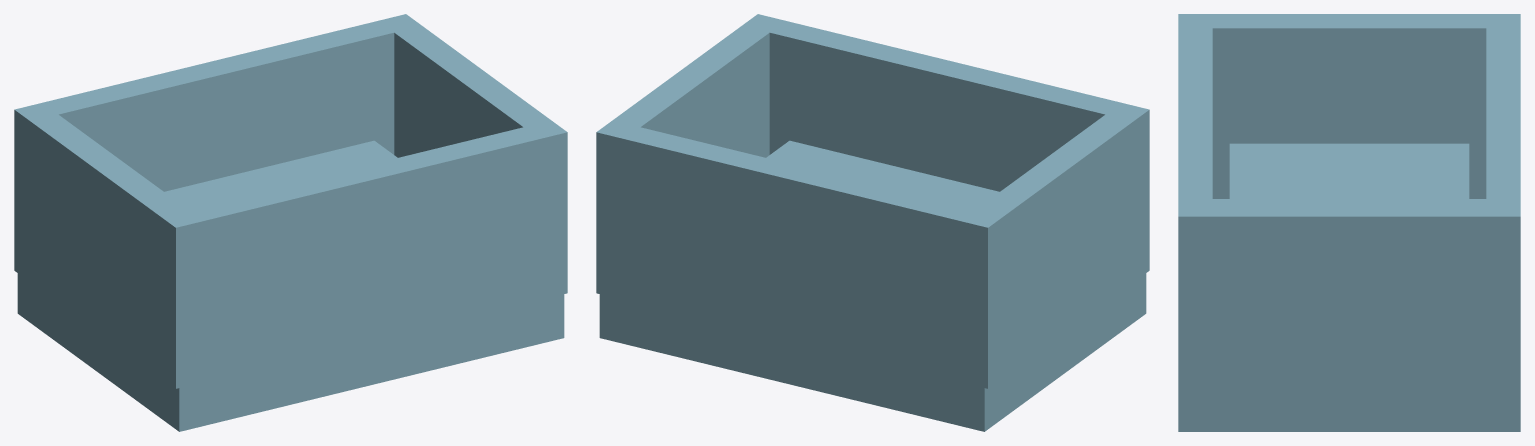
File: product_ice_packed_crate.glb
3 renders of one model, left to right at view 1: azimuth 30°, elevation 25°; view 2: azimuth 150°, elevation 25°; view 3: azimuth 270°, elevation 25°, orthographic. The views are drawn at different scales.
Parts seen in each view (by area): view 1: product.ice_packed_crate; view 2: product.ice_packed_crate; view 3: product.ice_packed_crate.
Part boxes in pixels (x1,y1,x2,y2): product.ice_packed_crate: (14, 14, 567, 431); product.ice_packed_crate: (596, 14, 1149, 431); product.ice_packed_crate: (1178, 14, 1520, 431).
Bounding box in the file's own units: 0.34 × 0.17 × 0.2429.
